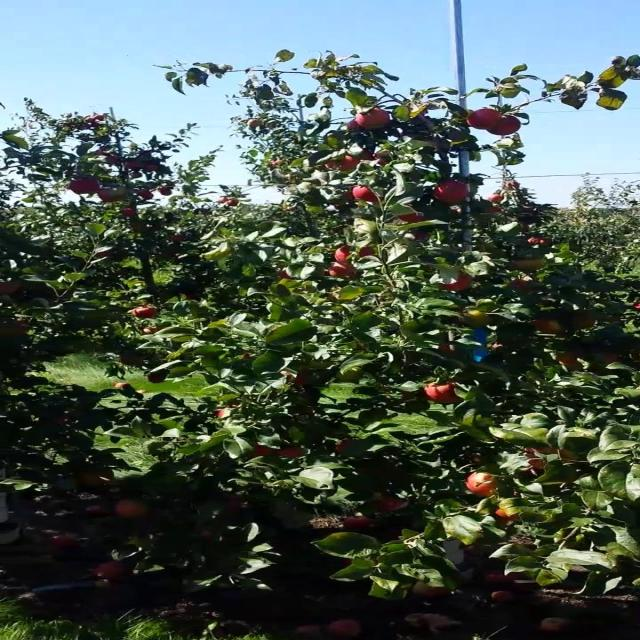apple: (433, 179, 469, 205), (524, 446, 578, 462), (424, 382, 462, 404), (356, 108, 391, 130), (467, 472, 496, 497), (76, 469, 113, 488), (467, 108, 500, 129), (487, 115, 520, 135), (116, 499, 149, 518), (442, 272, 473, 291), (324, 155, 360, 171), (67, 178, 100, 194), (282, 370, 311, 388), (462, 310, 491, 328), (531, 318, 562, 334), (98, 186, 129, 202), (569, 311, 596, 329), (557, 351, 582, 370), (351, 185, 378, 202), (329, 261, 356, 278), (510, 258, 544, 271), (378, 498, 409, 512), (509, 276, 533, 293), (493, 509, 518, 525), (129, 305, 158, 318), (251, 444, 278, 456), (336, 439, 358, 453), (398, 212, 427, 222), (118, 354, 142, 366), (333, 245, 351, 261), (0, 280, 22, 293), (278, 446, 304, 457), (598, 352, 620, 364), (373, 150, 391, 164), (356, 246, 376, 258), (527, 236, 551, 246), (140, 325, 162, 335), (148, 372, 167, 383), (347, 119, 364, 131), (487, 192, 504, 204), (93, 248, 111, 258), (438, 344, 456, 354), (213, 408, 231, 418), (111, 381, 132, 389), (411, 231, 429, 239), (278, 270, 291, 279), (547, 458, 556, 461)
